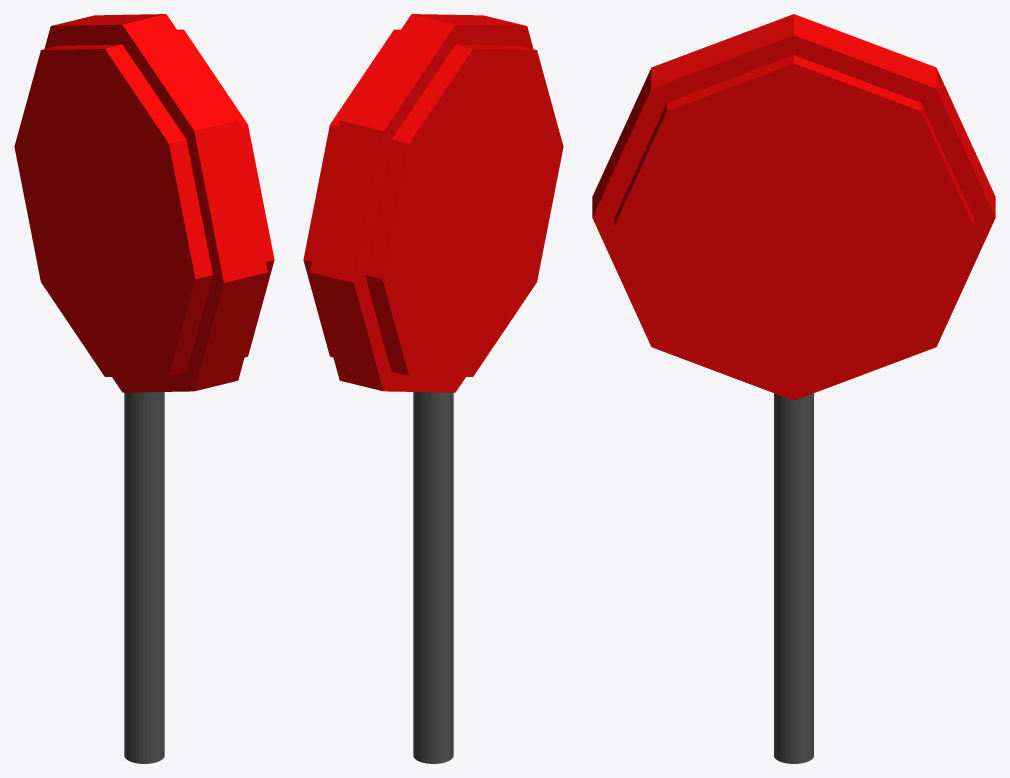
File: StopSign.fbx
3 views of the same model, side by side, from view 1: azimuth 30°, elevation 25°; view 2: azimuth 150°, elevation 25°; view 3: azimuth 270°, elevation 25° (orthographic).
Parts seen in each view (by area): view 1: Cylinder.001; view 2: Cylinder.001; view 3: Cylinder.001.
Part boxes in pixels (left/top/right/bottom): Cylinder.001: left=14, top=14, right=274, bottom=763; Cylinder.001: left=303, top=14, right=563, bottom=763; Cylinder.001: left=592, top=14, right=995, bottom=763.
Size of the model in its own units: 4.5 by 40 by 20.
